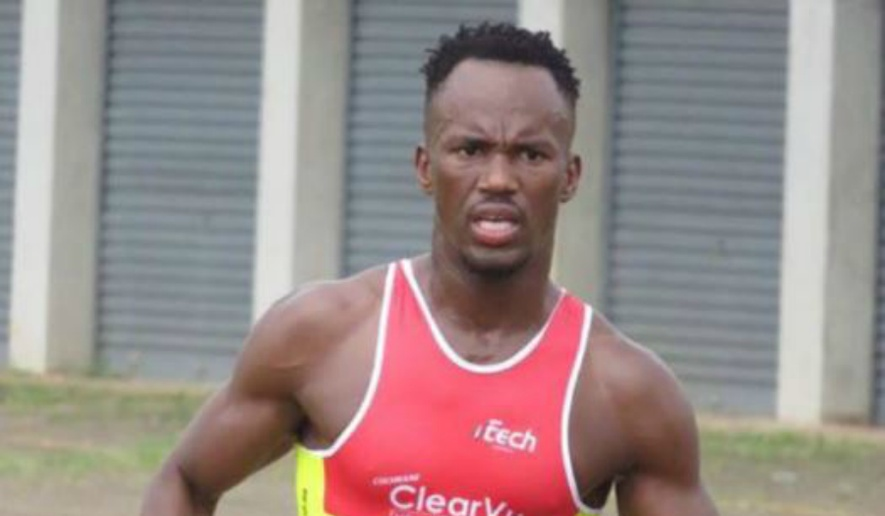mouth: (464, 202, 524, 243)
nose: (475, 177, 519, 195)
